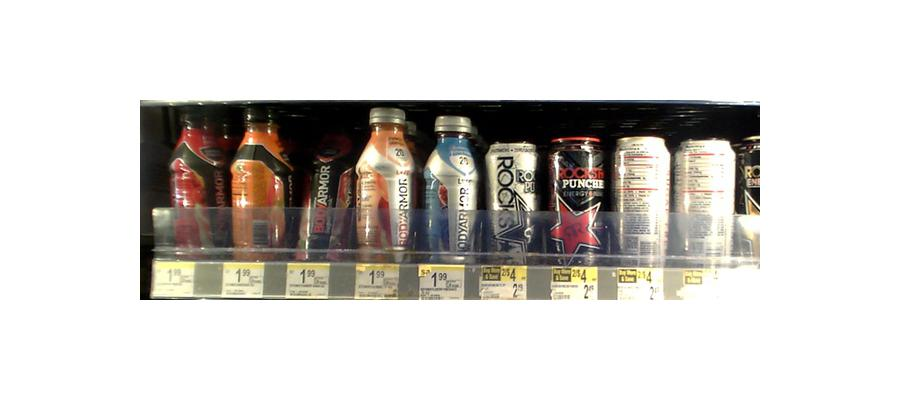bottle: (228, 98, 289, 260), (355, 103, 414, 263), (167, 100, 226, 256), (421, 112, 478, 263), (545, 137, 606, 273), (612, 137, 673, 270), (676, 138, 738, 263), (484, 142, 539, 265), (297, 130, 349, 260)
